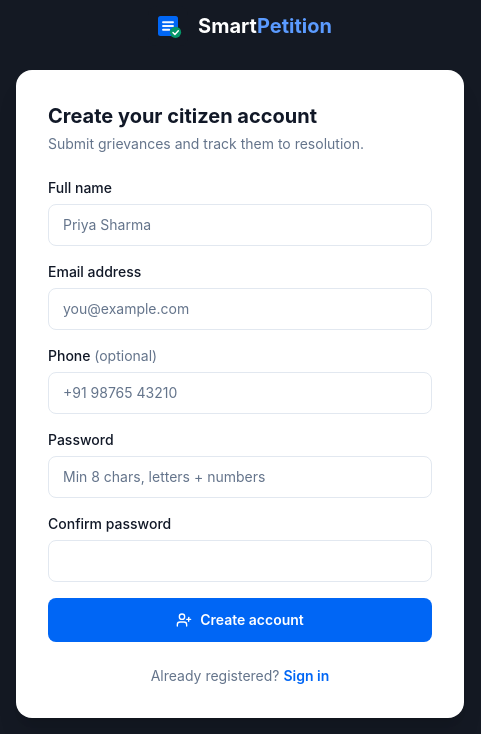
Test case: registration form validation (client-side, zod) › rejects weak passwords before hitting the server
The width and height of the screenshot is (481, 734).
Step 1. Type "Test User" into the field labelled "Full name" → (240, 225), box [48,204,432,246]
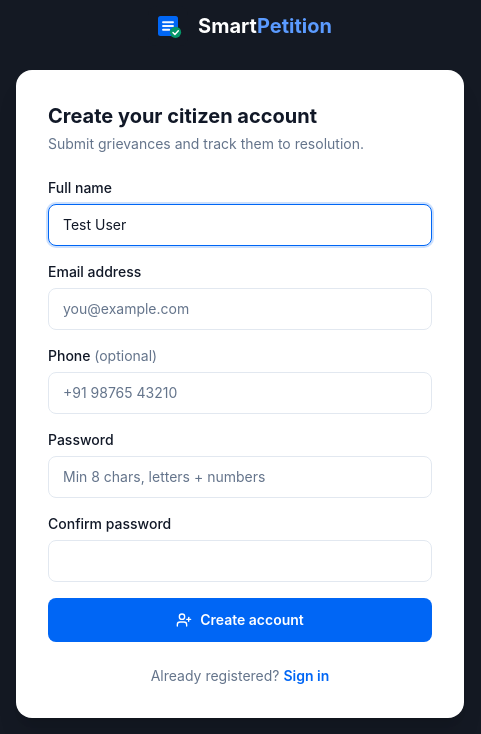
Step 2. Type "test@example.com" into the field labelled "Email address" → (240, 309), box [48,288,432,330]
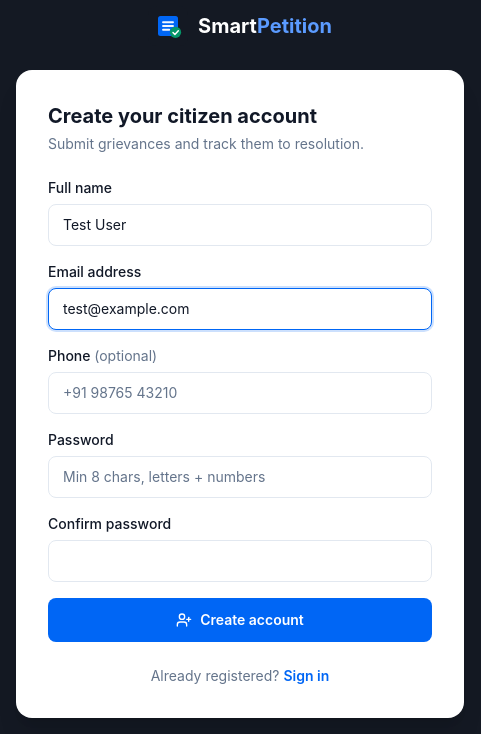
Step 3. Type "abcdefgh" into the password field labelled "Password" → (240, 477), box [48,456,432,498]
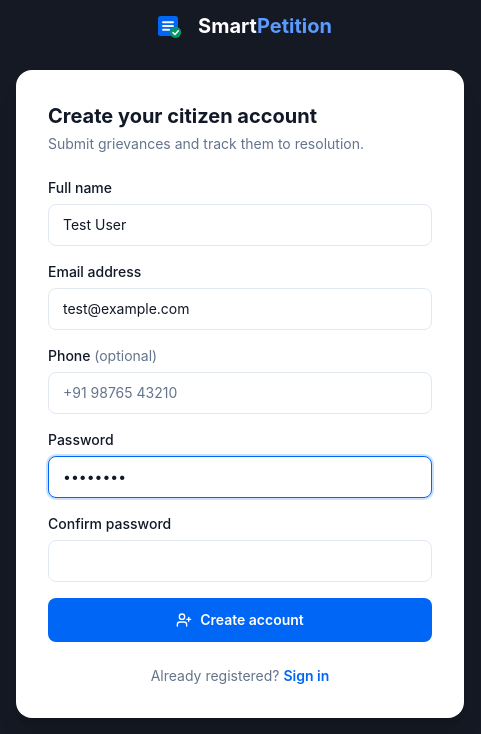
Step 4. Type "abcdefgh" into the password field labelled "Confirm password" → (240, 561), box [48,540,432,582]
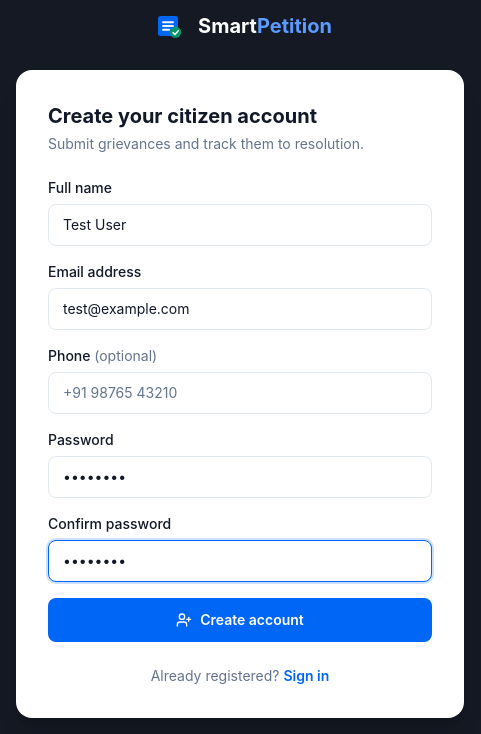
Step 5. Click the button "Create account" → (240, 620), box [48,598,432,642]
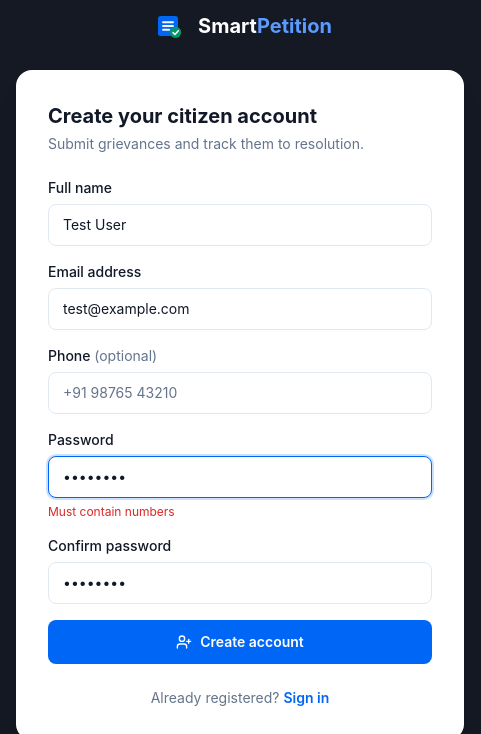
Check: the text "Must contain numbers" is shown, box [48,504,175,519]
